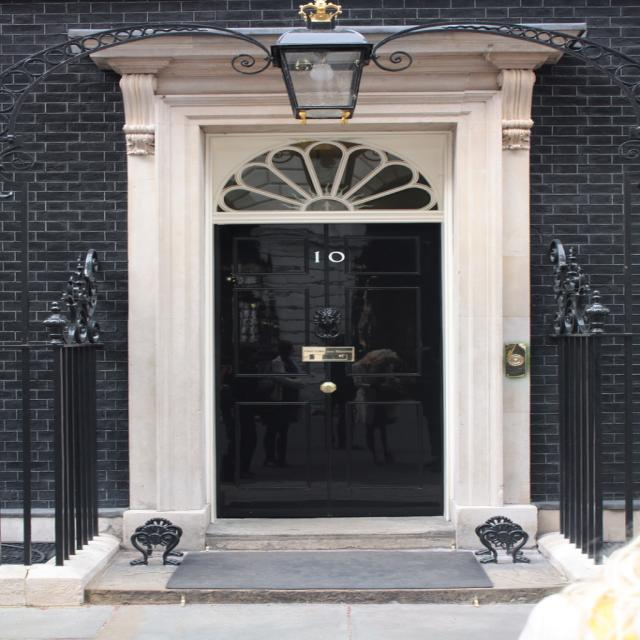door_local: (200, 119, 458, 526)
